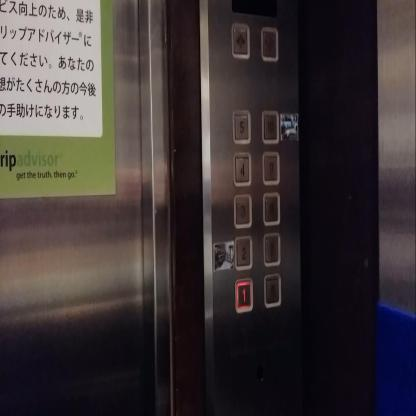1: (235, 276, 253, 313)
10: (262, 110, 279, 145)
2: (235, 235, 253, 270)
3: (233, 194, 252, 228)
4: (233, 152, 252, 186)
5: (232, 108, 251, 144)
6: (263, 274, 282, 308)
7: (262, 232, 281, 268)
8: (262, 193, 280, 225)
9: (262, 151, 279, 186)
close: (261, 26, 278, 61)
open: (231, 21, 250, 59)
